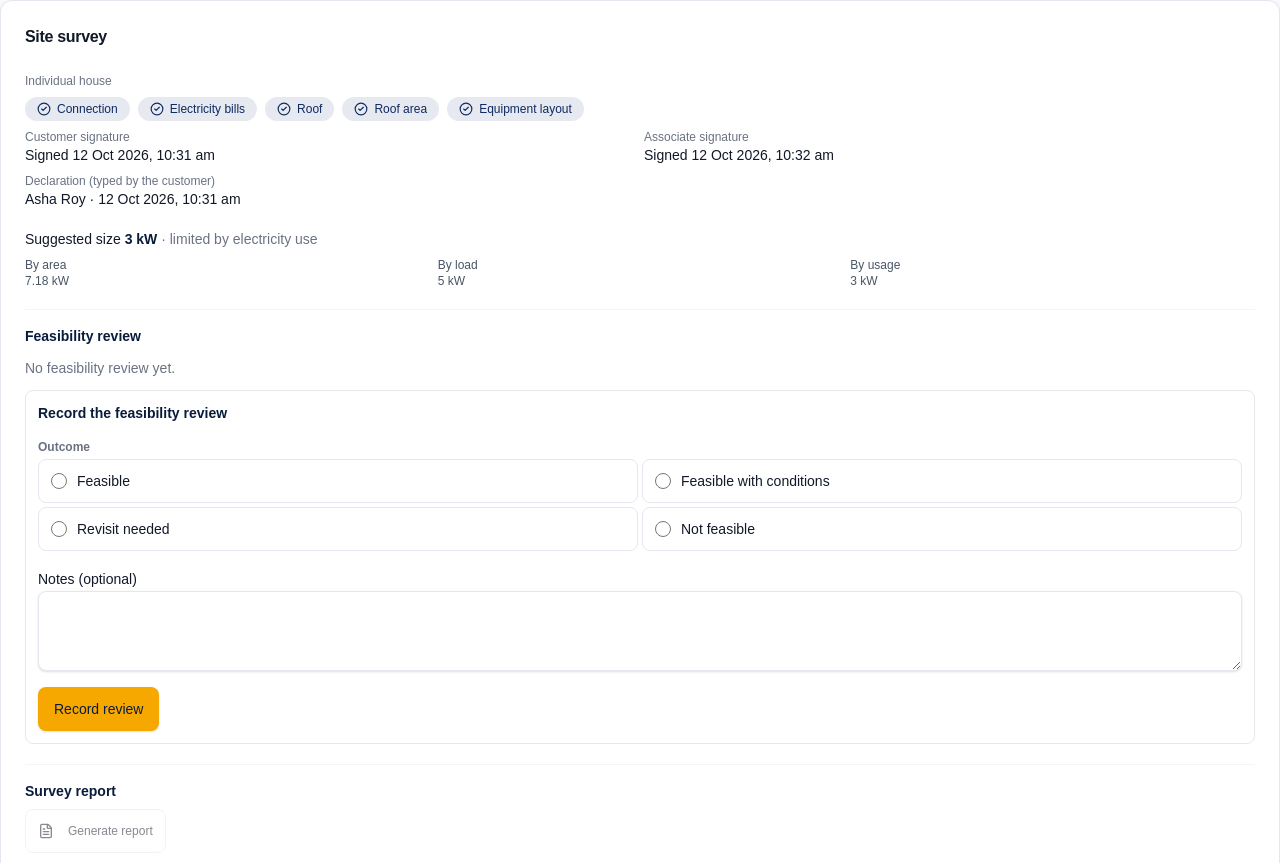
Scenario: SurveyPanel — review form conditional requirements › shows the 409 precondition as a plain sentence
Click the radio button labelled "Feasible": (59, 481) [51, 473, 67, 489]
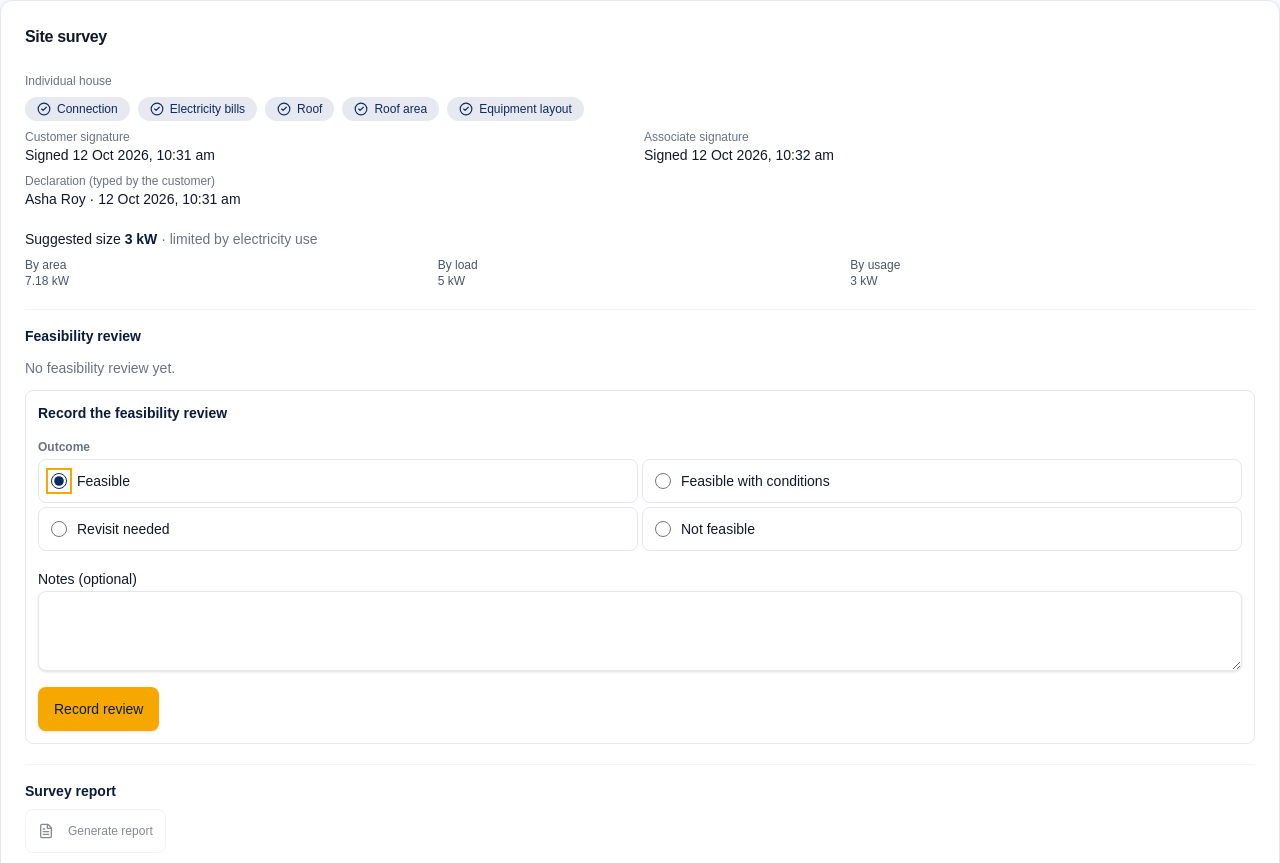
Click the button "Record review": (99, 709) [38, 687, 160, 731]
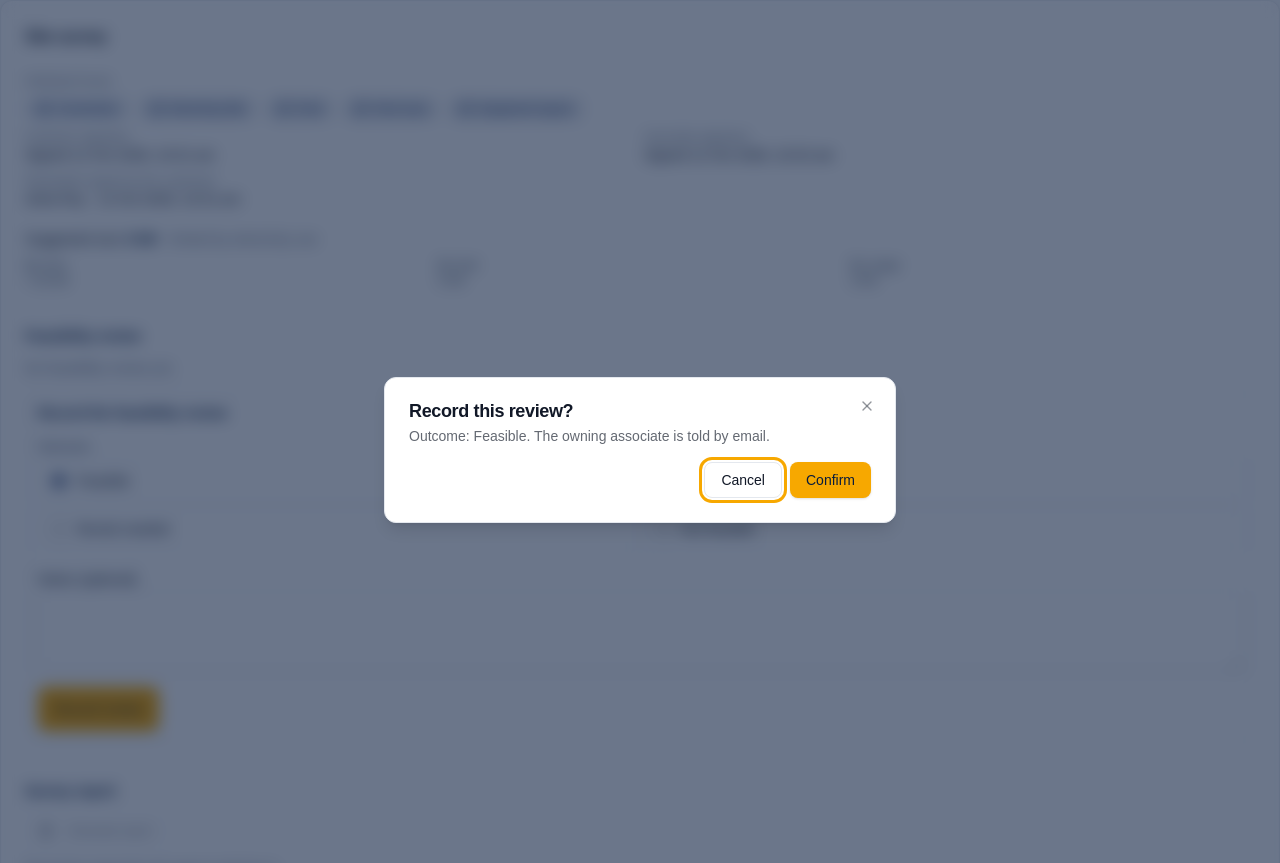
Click the button "Confirm": (830, 480) [790, 462, 871, 498]
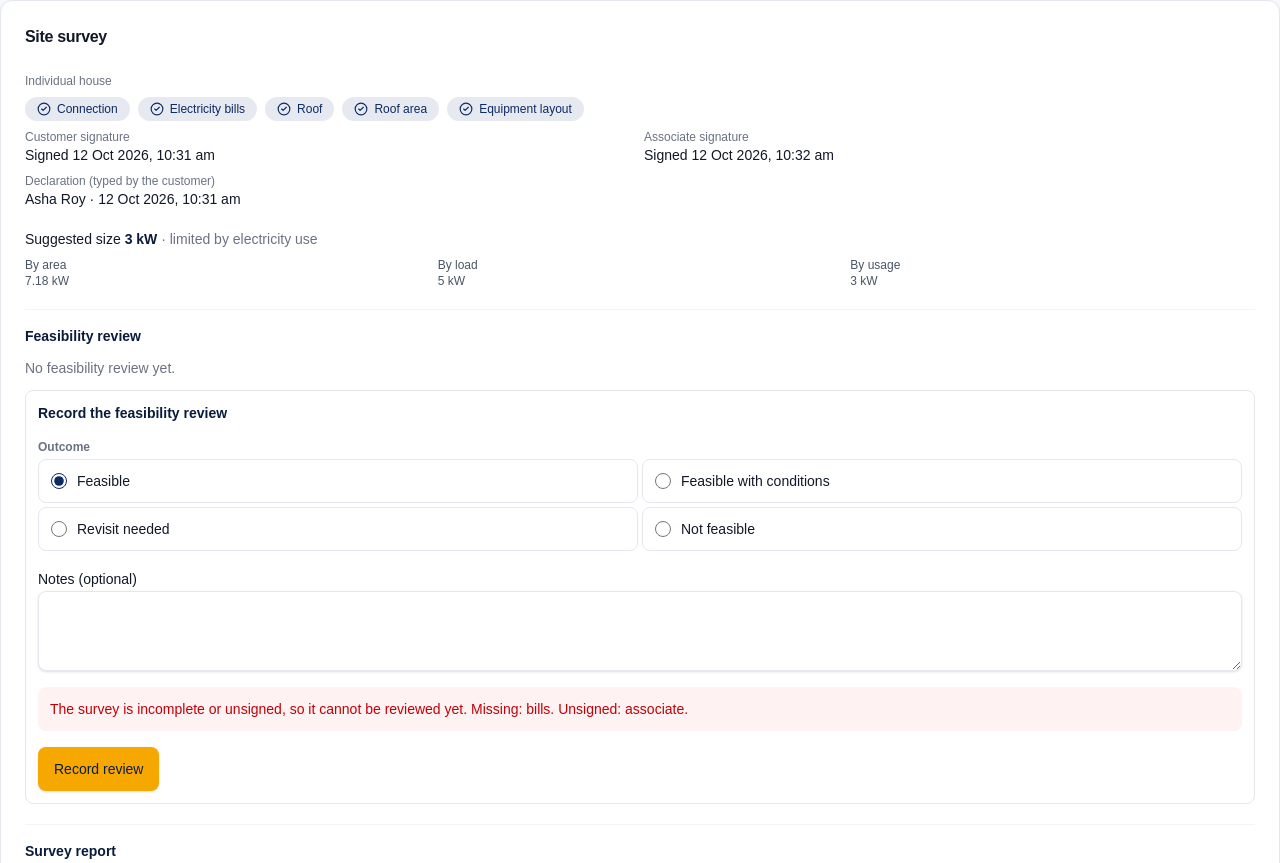
Expected: the message with test id "review-error" shows "incomplete or unsigned", [50, 701, 688, 717]
Expected: the message with test id "review-error" shows "Missing: bills", [50, 701, 688, 717]
Expected: the message with test id "review-error" shows "Unsigned: associate", [50, 701, 688, 717]
